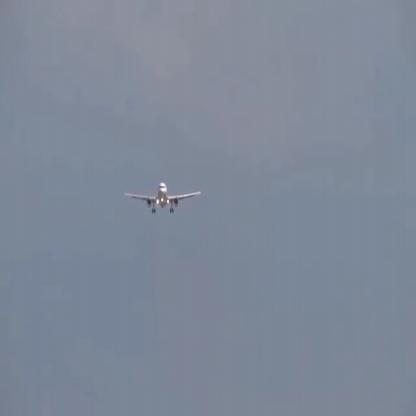plane: (124, 183, 202, 215)
